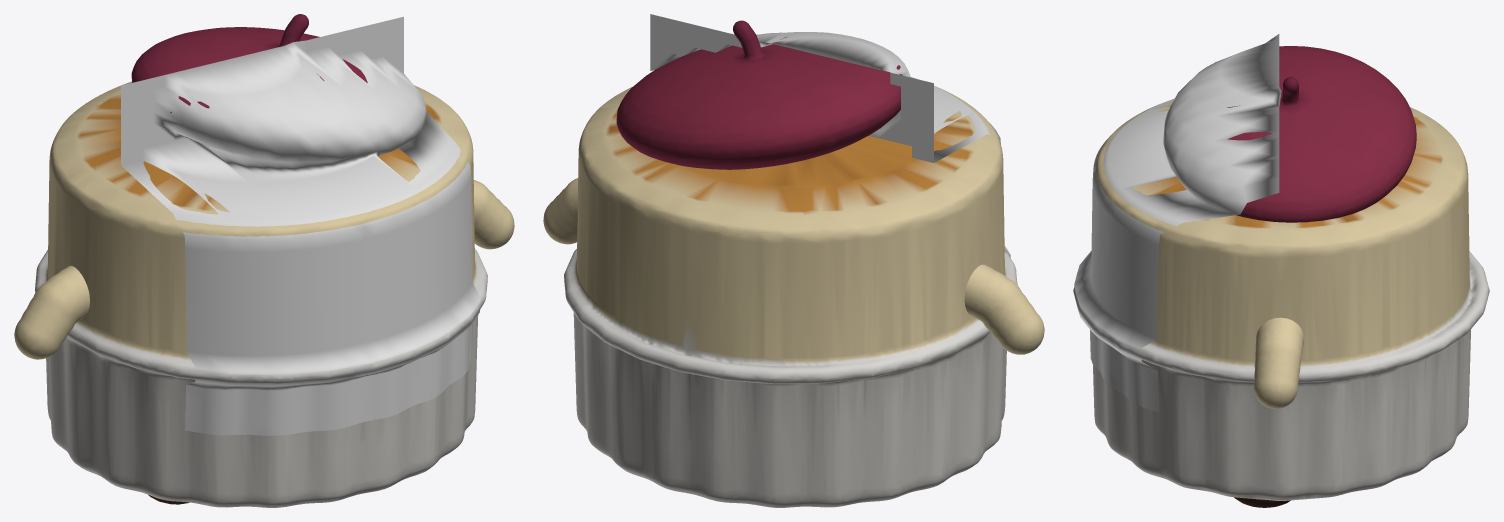
Rendered from folk2_brulee.glb.
The picture shows the model from 3 angles, left to right: view 1: azimuth 30°, elevation 25°; view 2: azimuth 150°, elevation 25°; view 3: azimuth 270°, elevation 25°; orthographic projection. The views are drawn at different scales.
Parts seen in each view (by area): view 1: brulee_face, brulee_body, brulee_arm_l, brulee_arm_r; view 2: brulee_body, brulee_face, brulee_arm_l, brulee_arm_r; view 3: brulee_body, brulee_face, brulee_arm_r.
Part boxes in pixels (x1,y1,x2,y2): brulee_face: (121, 16, 480, 435); brulee_body: (35, 14, 487, 507); brulee_arm_l: (14, 265, 89, 359); brulee_arm_r: (473, 180, 514, 249); brulee_body: (564, 20, 1017, 507); brulee_face: (650, 14, 1010, 257); brulee_arm_l: (964, 264, 1044, 354); brulee_arm_r: (543, 178, 578, 244); brulee_body: (1073, 46, 1489, 500); brulee_face: (1074, 34, 1281, 412); brulee_arm_r: (1254, 317, 1303, 408).
Size of the model in its own units: 1.25 by 1.06 by 0.9946.
